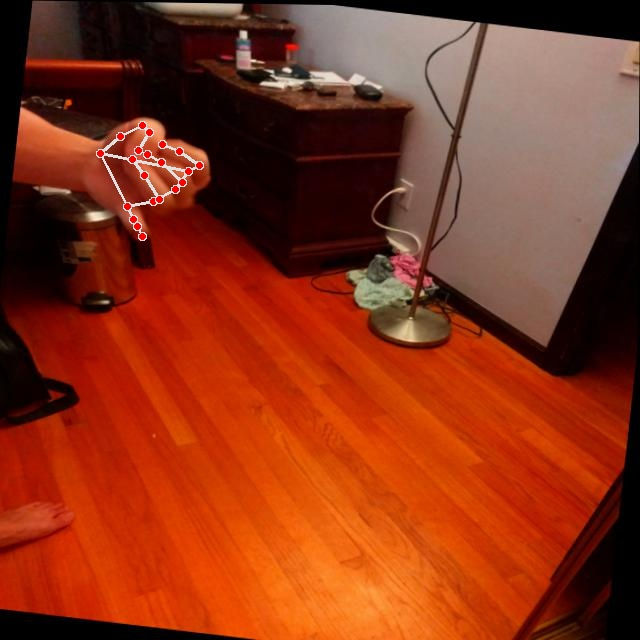J: (71, 104, 225, 257)
